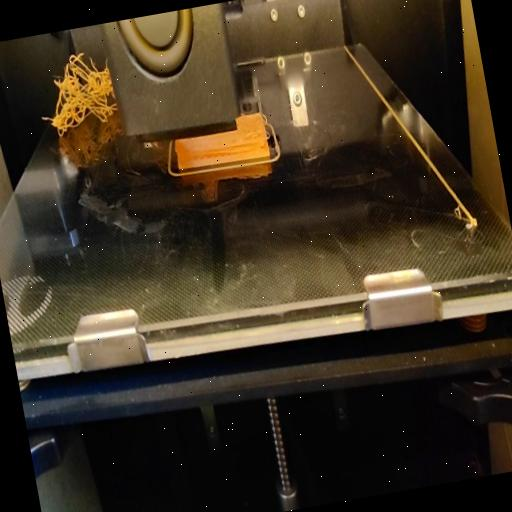spaghetti: (32, 47, 118, 138)
